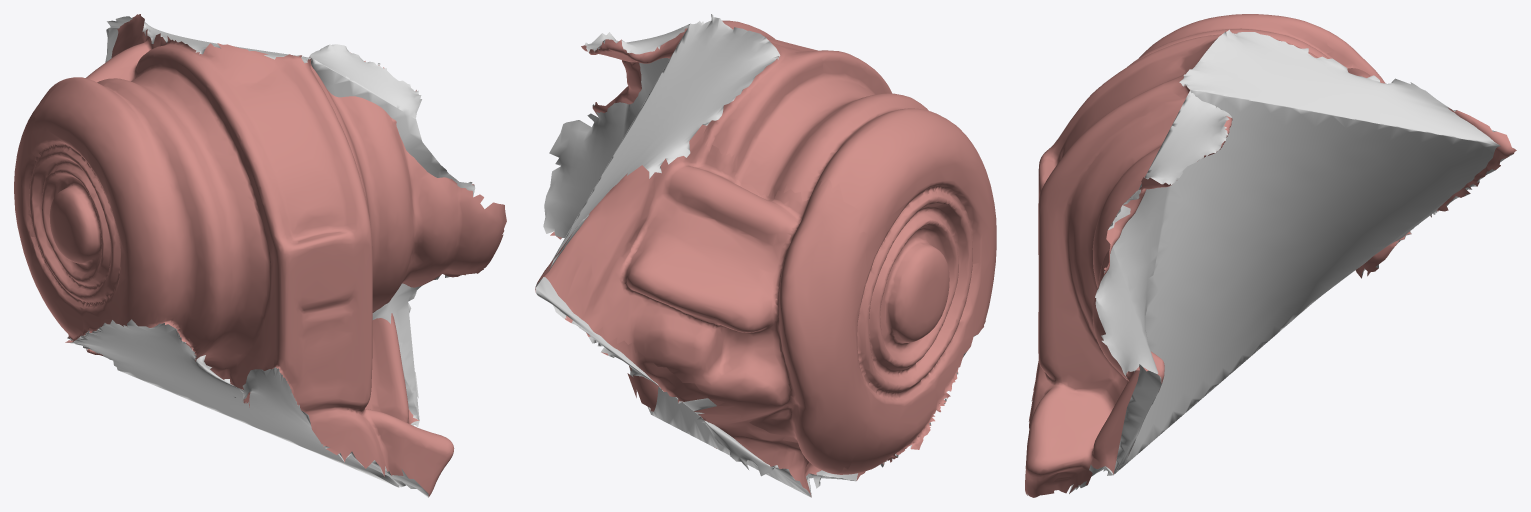
Rendered from Hi3D_Segmented Pastel Female Android 3D Model Asset_part04_20261014_192059.glb.
The picture shows the model from 3 angles, left to right: view 1: azimuth 30°, elevation 25°; view 2: azimuth 150°, elevation 25°; view 3: azimuth 270°, elevation 25°; orthographic projection. The views are drawn at different scales.
Visible parts, largest first — view 1: Hi3D_Segmented Pastel Female Android 3D Model Asset_part04_2; view 2: Hi3D_Segmented Pastel Female Android 3D Model Asset_part04_2; view 3: Hi3D_Segmented Pastel Female Android 3D Model Asset_part04_2.
Part boxes in pixels (<box>): Hi3D_Segmented Pastel Female Android 3D Model Asset_part04_2: <box>14,14,506,497</box>; Hi3D_Segmented Pastel Female Android 3D Model Asset_part04_2: <box>535,14,996,497</box>; Hi3D_Segmented Pastel Female Android 3D Model Asset_part04_2: <box>1025,14,1516,497</box>.
Bounding box in the file's own units: 0.062 × 0.0656 × 0.0709.
